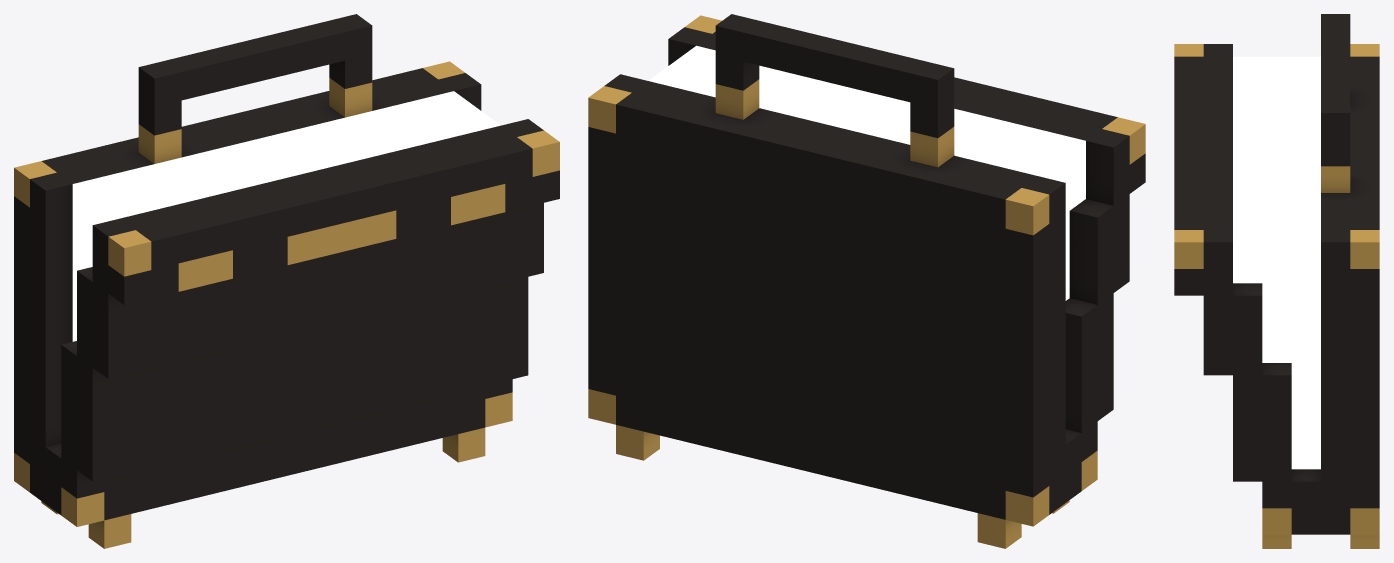
File: briefcase.glb
The picture shows the model from 3 angles, left to right: view 1: azimuth 30°, elevation 25°; view 2: azimuth 150°, elevation 25°; view 3: azimuth 270°, elevation 25°; orthographic projection. The views are drawn at different scales.
Visible parts, largest first — view 1: briefcase_body; view 2: briefcase_body; view 3: briefcase_body.
Part boxes in pixels (<box>): briefcase_body: <box>14,14,559,548</box>; briefcase_body: <box>588,14,1145,548</box>; briefcase_body: <box>1174,14,1379,548</box>.
Bounding box in the file's own units: 0.625 × 0.5859 × 0.2734.
Materials: 1 (1 with a texture image).
